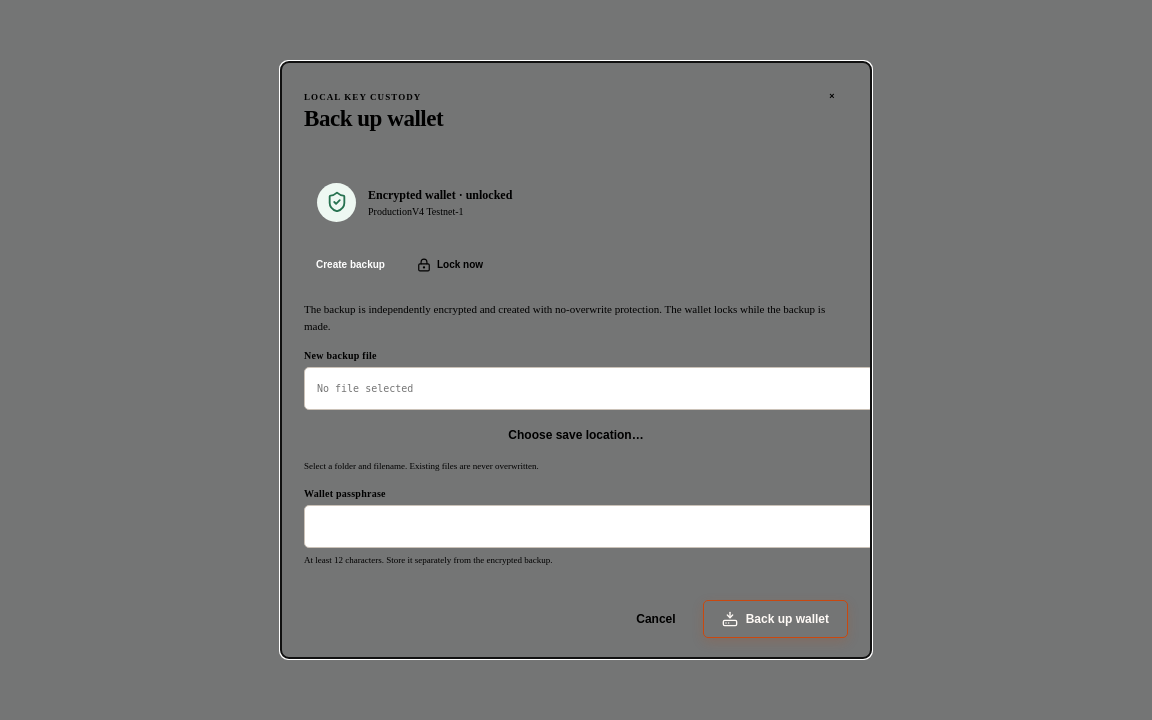
it: WalletSecurityDialog › requires a selection if the first save dialog is cancelled
The image size is (1152, 720).
Click the button "Choose save location…" at (576, 435), box [304,416,848,454]
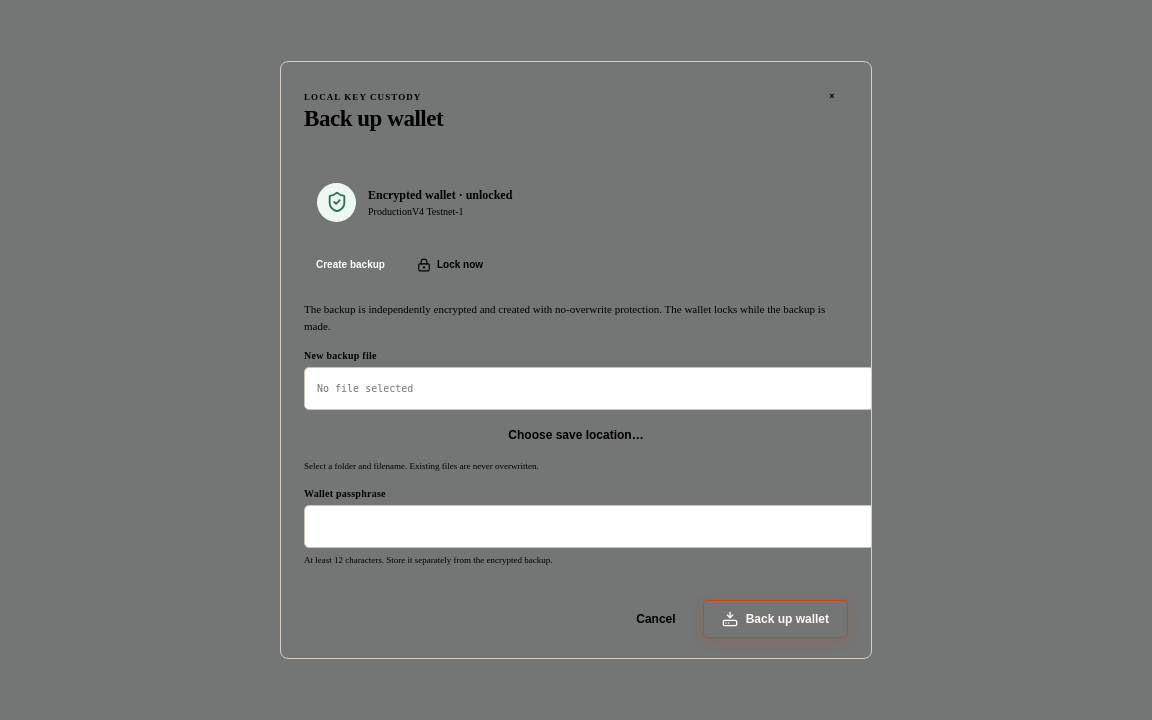
Expected: the field labelled "New backup file" is empty, [304,367,872,410]
Type "correct horse battery staple" into the password field labelled "Wallet passphrase" at (589, 526), box [304,505,874,548]
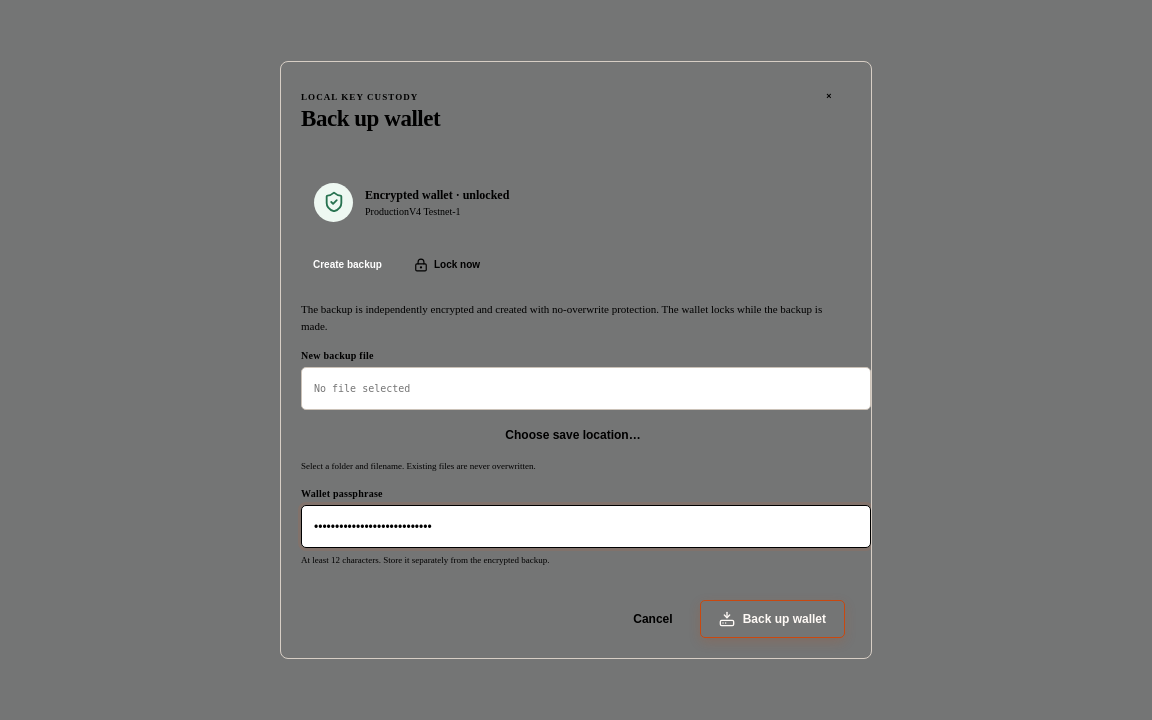
Click the button "Back up wallet" at (772, 619), box [700,600,845,638]
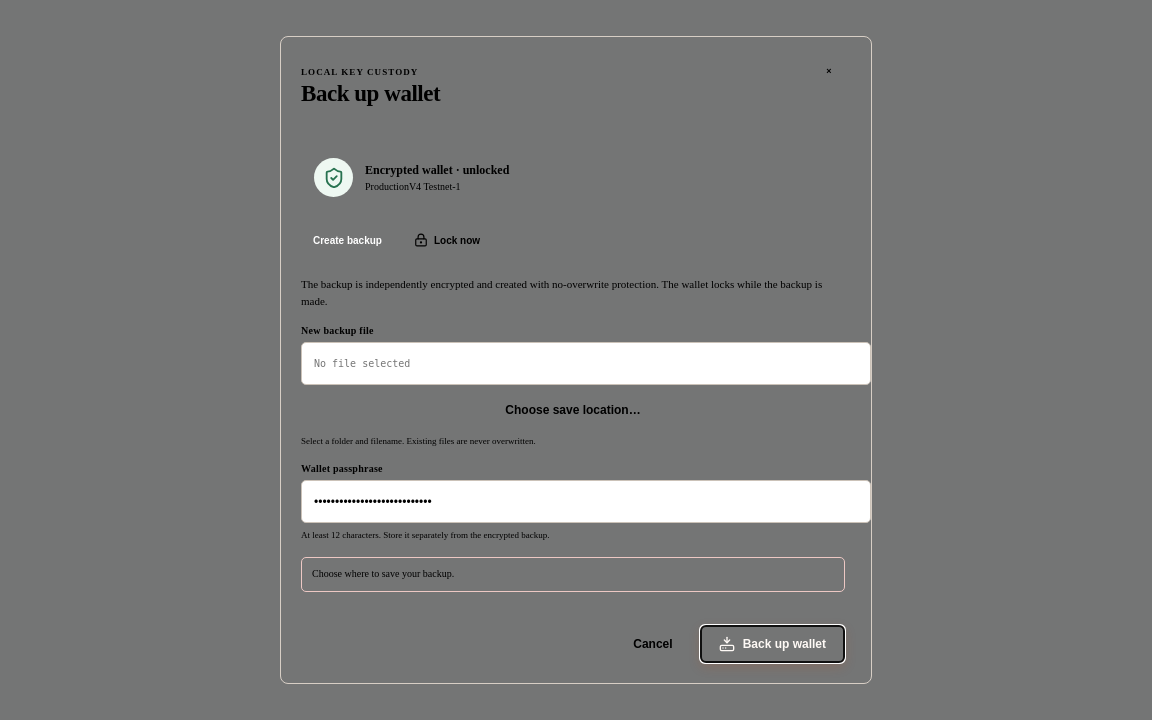
Expected: the message reads "Choose where to save your backup.", [312,568,454,579]
